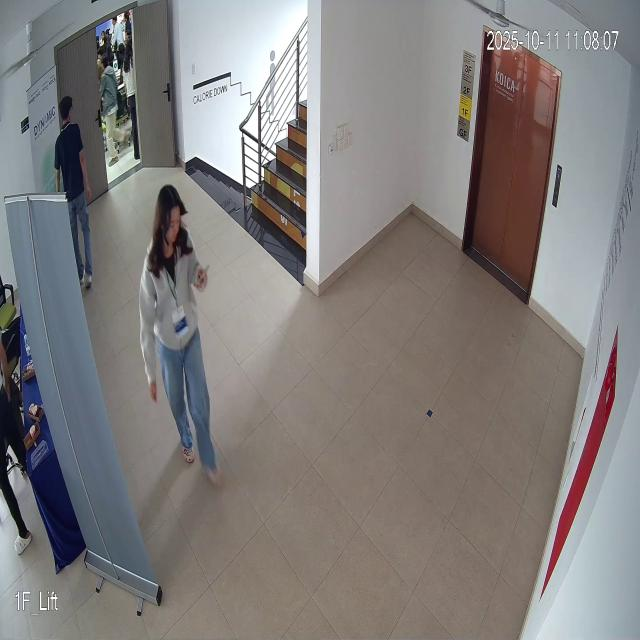face: (152, 183, 188, 262)
